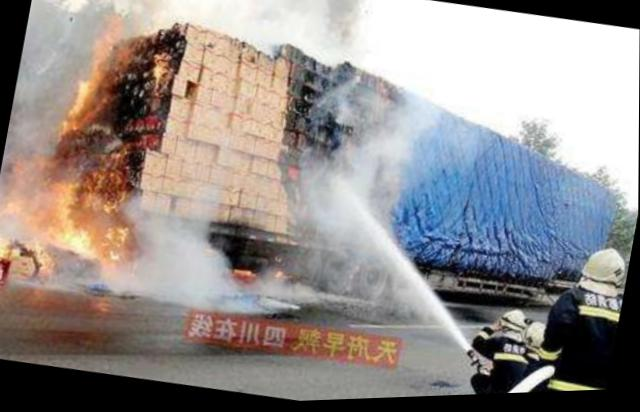fire: (0, 0, 197, 302)
